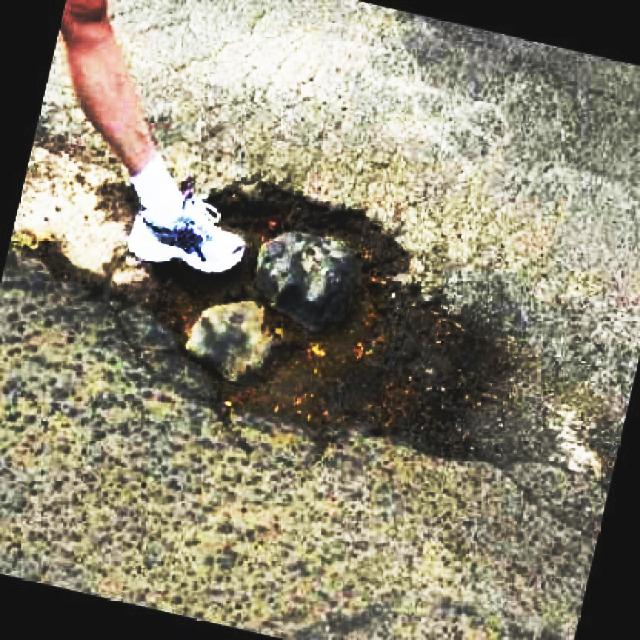pothole: (21, 170, 517, 468)
